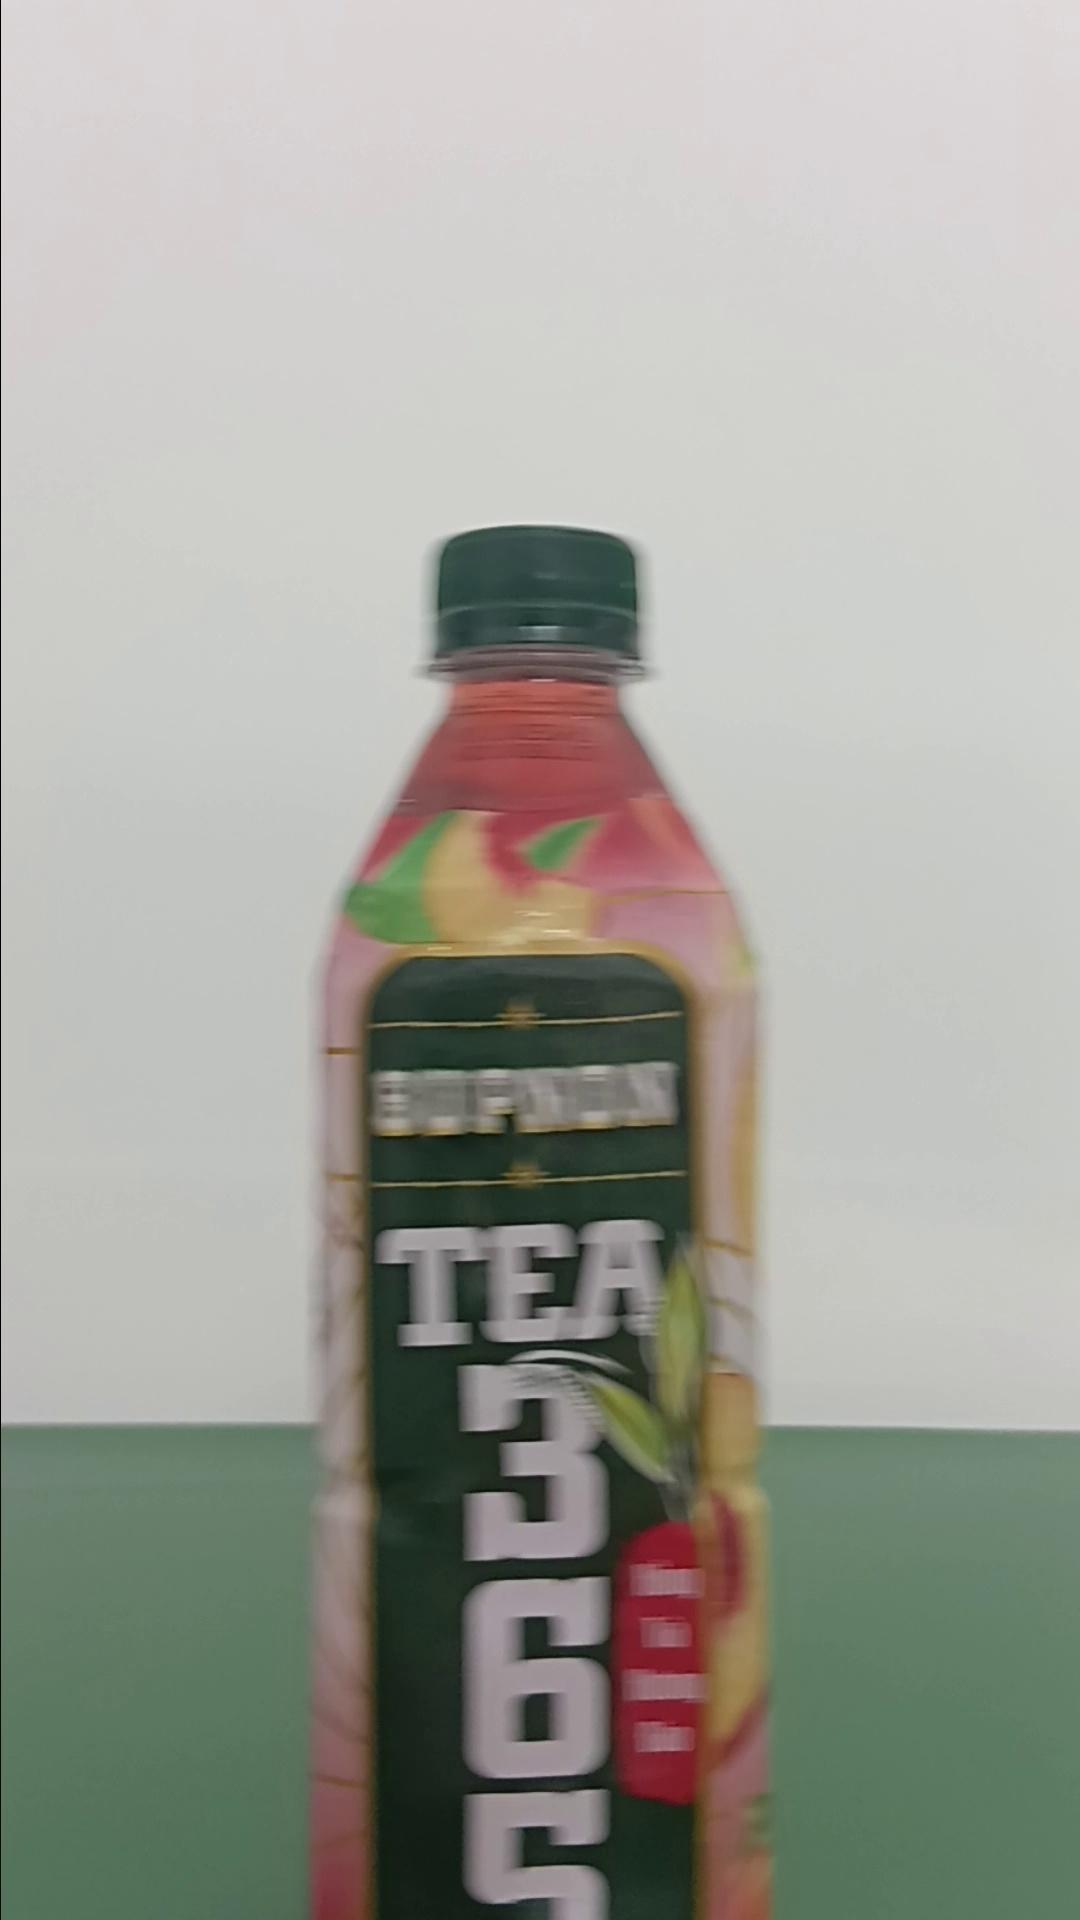khong loi: (303, 521, 774, 1915)
